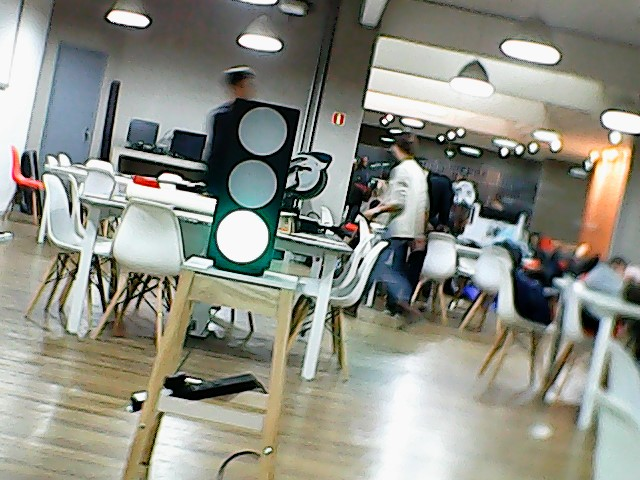verde: (200, 95, 307, 276)
